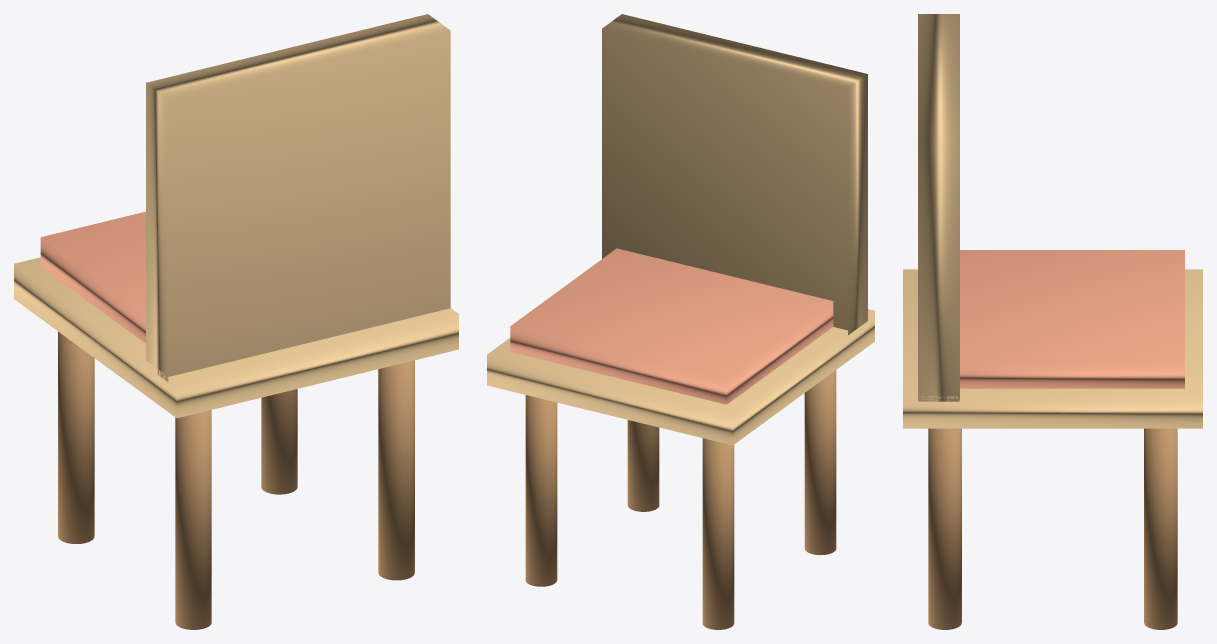
Rendered from chair_basic.glb.
The picture shows the model from 3 angles, left to right: view 1: azimuth 30°, elevation 25°; view 2: azimuth 150°, elevation 25°; view 3: azimuth 270°, elevation 25°; orthographic projection. The views are drawn at different scales.
Parts seen in each view (by area): view 1: back, seat, cushion, leg_1-1, leg_-1-1, leg_-11, leg_11; view 2: back, cushion, seat, leg_-11, leg_11, leg_-1-1, leg_1-1; view 3: cushion, back, seat, leg_1-1, leg_11.
Part boxes in pixels (<box>): back: <box>146,14,450,382</box>; seat: <box>14,257,458,418</box>; cushion: <box>40,211,145,343</box>; leg_1-1: <box>378,360,414,580</box>; leg_-1-1: <box>175,410,211,629</box>; leg_-11: <box>58,331,94,543</box>; leg_11: <box>261,389,297,494</box>; back: <box>602,14,867,335</box>; cushion: <box>510,248,833,404</box>; seat: <box>487,309,874,445</box>; leg_-11: <box>702,438,734,629</box>; leg_11: <box>525,395,557,586</box>; leg_-1-1: <box>804,370,836,555</box>; leg_1-1: <box>627,420,659,511</box>; cushion: <box>960,250,1184,388</box>; back: <box>918,14,959,401</box>; seat: <box>903,269,1202,428</box>; leg_1-1: <box>928,428,961,629</box>; leg_11: <box>1144,428,1177,629</box>.
Size of the model in its own units: 0.5 by 0.92 by 0.5.
